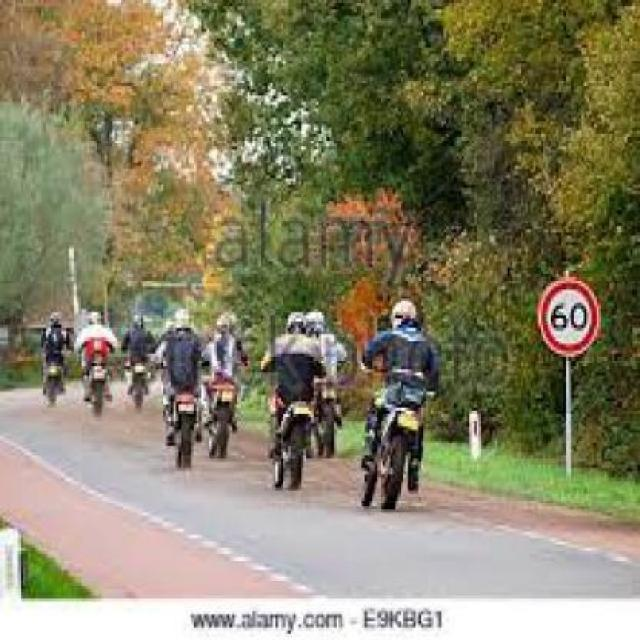forb_speed_over_60: (537, 281, 598, 356)
